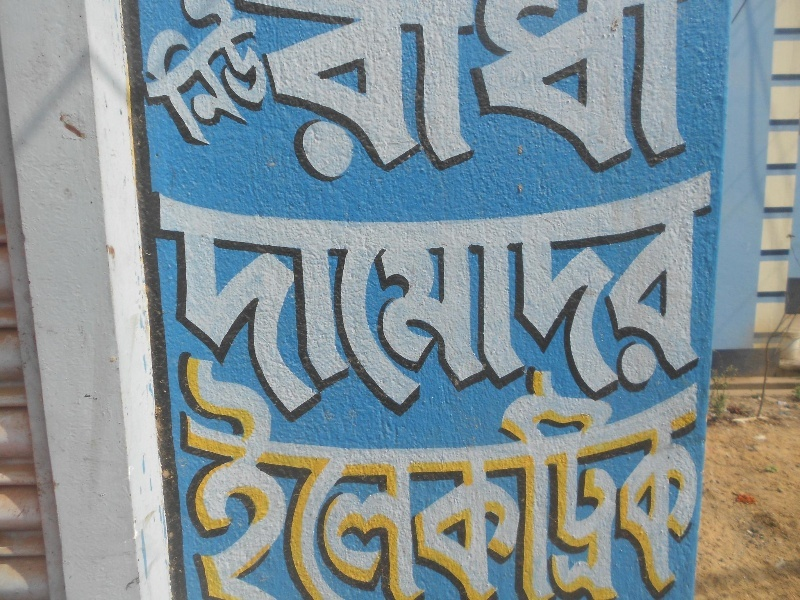text: (161, 171, 176, 424), (177, 171, 192, 424), (193, 171, 208, 424), (209, 171, 224, 424), (225, 171, 240, 424), (241, 171, 256, 424), (257, 171, 272, 424), (273, 171, 288, 424), (289, 171, 304, 424), (305, 171, 320, 424), (321, 171, 336, 424), (337, 171, 352, 424), (353, 171, 368, 424), (369, 171, 384, 424), (385, 171, 400, 424), (401, 171, 416, 424), (417, 171, 432, 424), (433, 171, 448, 424), (449, 171, 464, 424), (465, 171, 480, 424), (481, 171, 496, 424), (497, 171, 512, 424), (513, 171, 528, 424), (529, 171, 544, 424), (545, 171, 560, 424), (561, 171, 576, 424), (577, 171, 592, 424), (593, 171, 608, 424), (609, 171, 624, 424), (625, 171, 640, 424), (641, 171, 656, 424), (657, 171, 672, 424), (673, 171, 688, 424), (689, 171, 704, 424), (705, 171, 720, 424), (193, 352, 208, 600), (209, 352, 224, 600), (225, 352, 240, 600), (241, 352, 256, 600), (257, 352, 272, 600), (273, 352, 288, 600), (289, 352, 304, 600), (305, 352, 320, 600), (321, 352, 336, 600), (337, 352, 352, 600), (353, 352, 368, 600), (369, 352, 384, 600), (385, 352, 400, 600), (401, 352, 416, 600), (417, 352, 432, 600), (433, 352, 448, 600), (449, 352, 464, 600), (465, 352, 480, 600), (481, 352, 496, 600), (497, 352, 512, 600), (513, 352, 528, 600), (529, 352, 544, 600), (545, 352, 560, 600), (561, 352, 576, 600), (577, 352, 592, 600), (593, 352, 608, 600), (609, 352, 624, 600), (625, 352, 640, 600), (641, 352, 656, 600), (657, 352, 672, 600), (673, 352, 688, 600), (178, 352, 192, 600), (241, 1, 256, 183), (257, 1, 272, 183), (273, 1, 288, 183), (289, 1, 304, 183), (305, 1, 320, 183), (321, 1, 336, 183), (337, 1, 352, 183), (353, 1, 368, 183), (369, 1, 384, 183), (385, 1, 400, 183), (401, 1, 416, 183), (417, 1, 432, 183), (433, 1, 448, 183), (449, 1, 464, 183), (465, 1, 480, 183), (481, 1, 496, 183), (497, 1, 512, 183), (513, 1, 528, 183), (529, 1, 544, 183), (545, 1, 560, 183), (561, 1, 576, 183), (577, 1, 592, 183), (593, 1, 608, 183), (609, 1, 624, 183), (625, 1, 640, 183), (641, 1, 656, 183), (657, 1, 672, 183), (673, 1, 688, 183), (689, 352, 700, 600), (226, 1, 240, 183), (161, 1, 176, 148), (177, 1, 192, 148), (193, 1, 208, 148), (209, 1, 224, 148), (225, 1, 240, 148), (241, 1, 256, 148), (146, 1, 160, 148), (154, 171, 160, 424), (257, 1, 267, 148), (721, 171, 722, 424), (689, 1, 690, 183)
